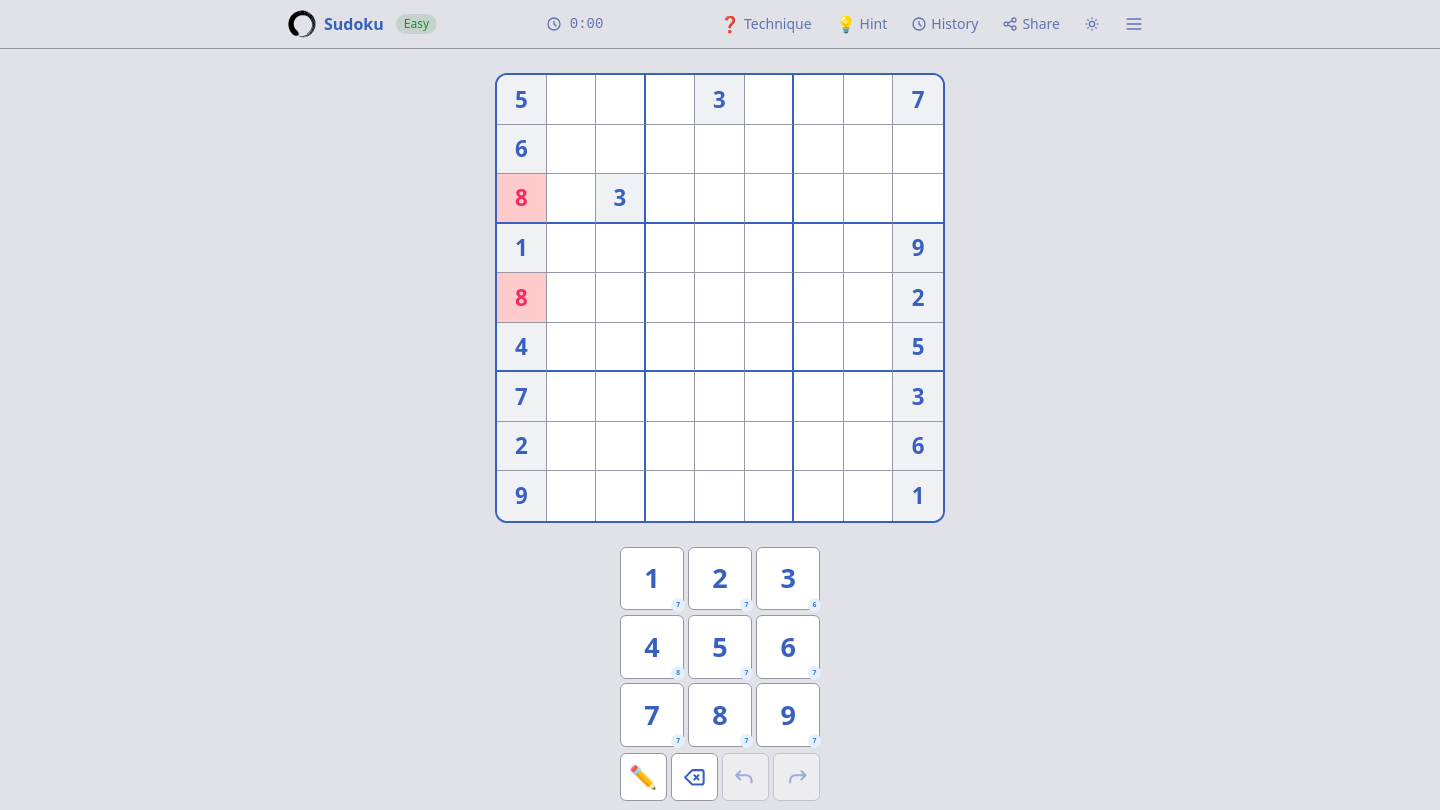
Test case: Game page render-test harness › hint path surfaces the mocked move › clears the persistent hint highlight once the hinted placement is performed
Check: the 1st cell "5" is shown, box [497,75,547,124]
Click the button with aria-label "Get a hint": (861, 24) [828,6,895,42]
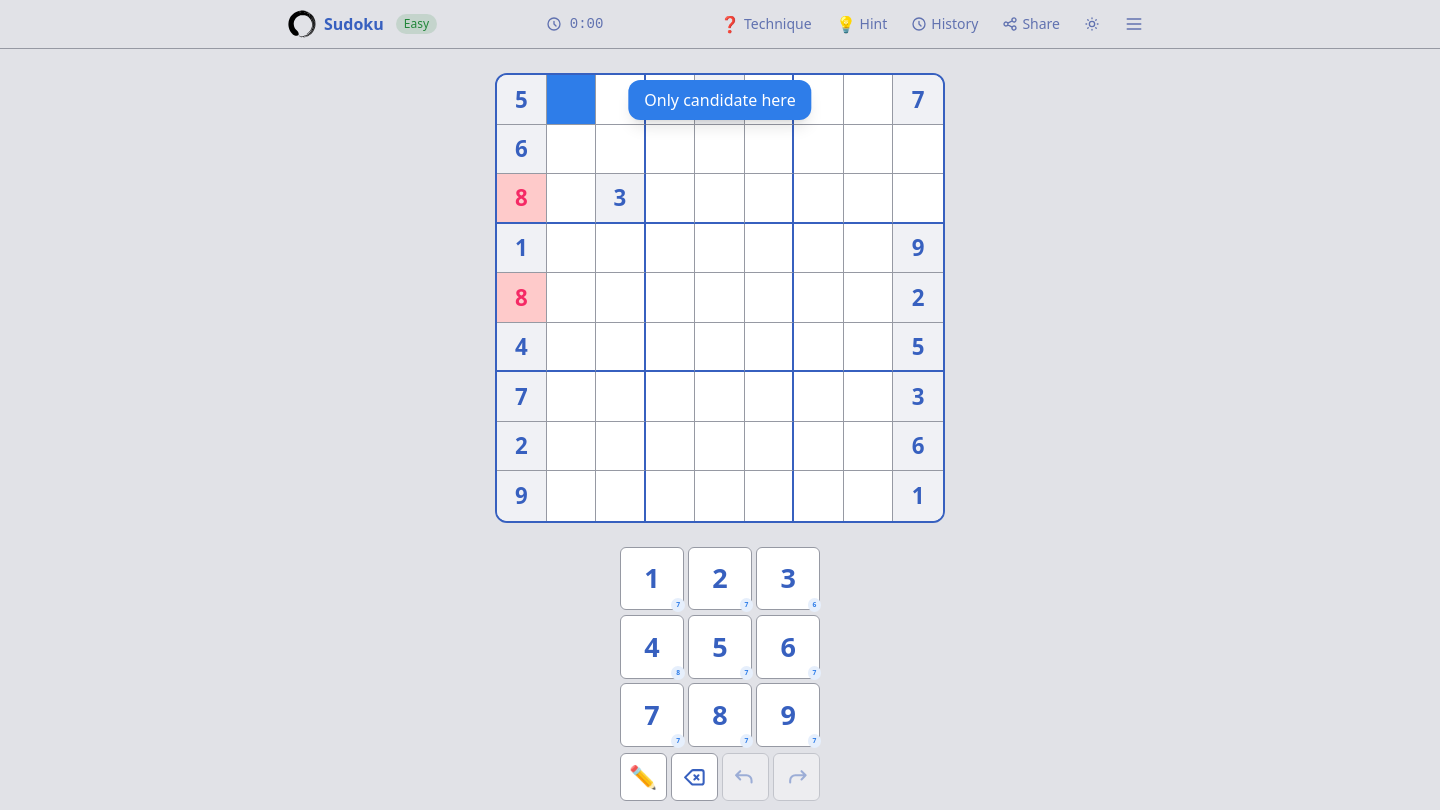
Click the cell named "Row 1, Column 2, empty": (571, 100) [547,75,596,124]
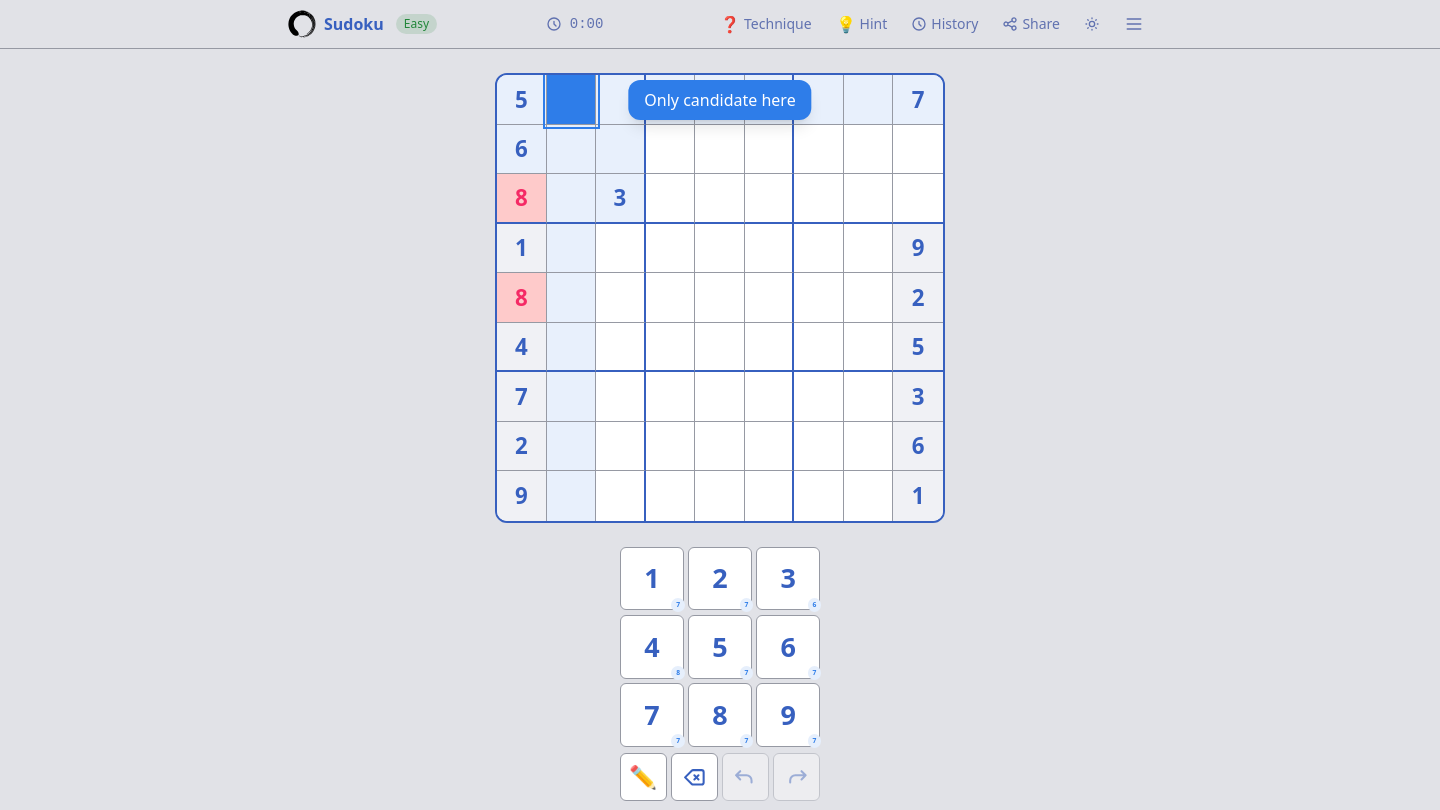
Click the button "4 8": (652, 647) [620,615,684,678]
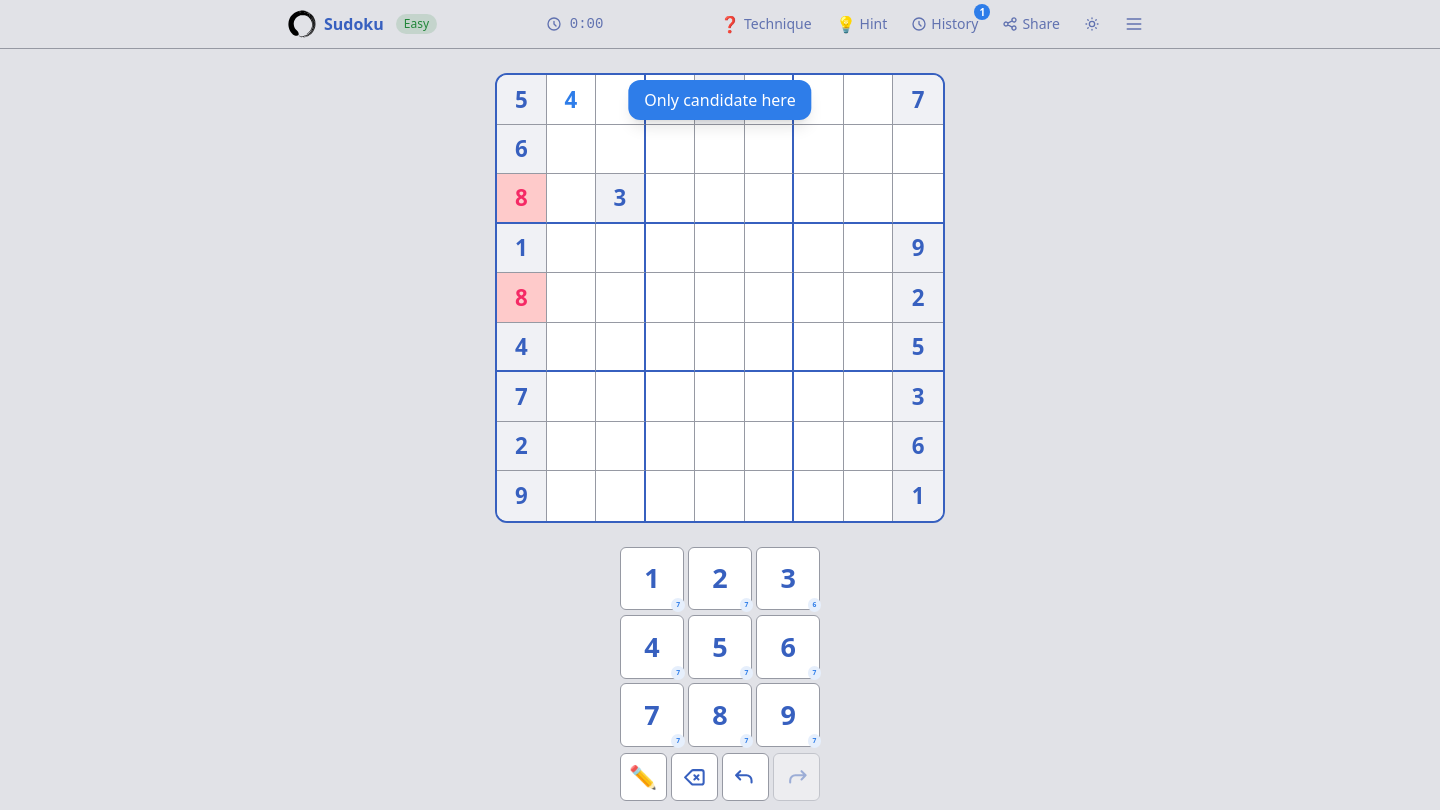
Check: the 1st cell "4" is shown, box [547,75,596,124]
